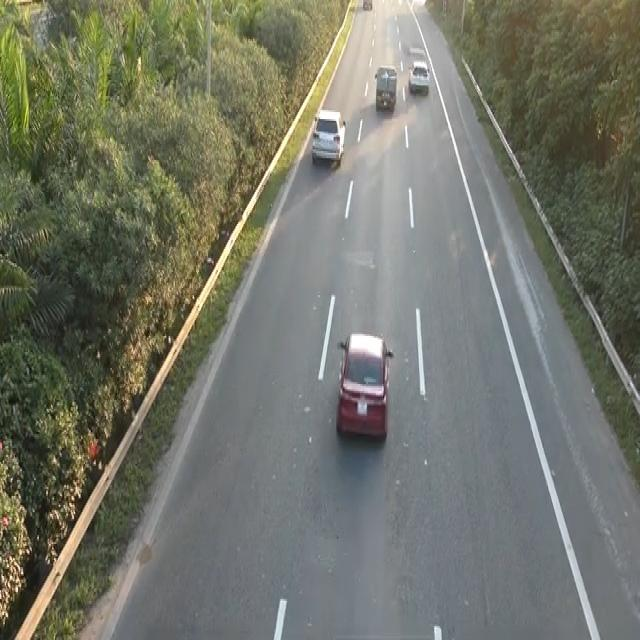bus: (333, 327, 395, 448)
car: (310, 107, 346, 165), (407, 57, 430, 94)
minivan: (373, 62, 397, 110)
